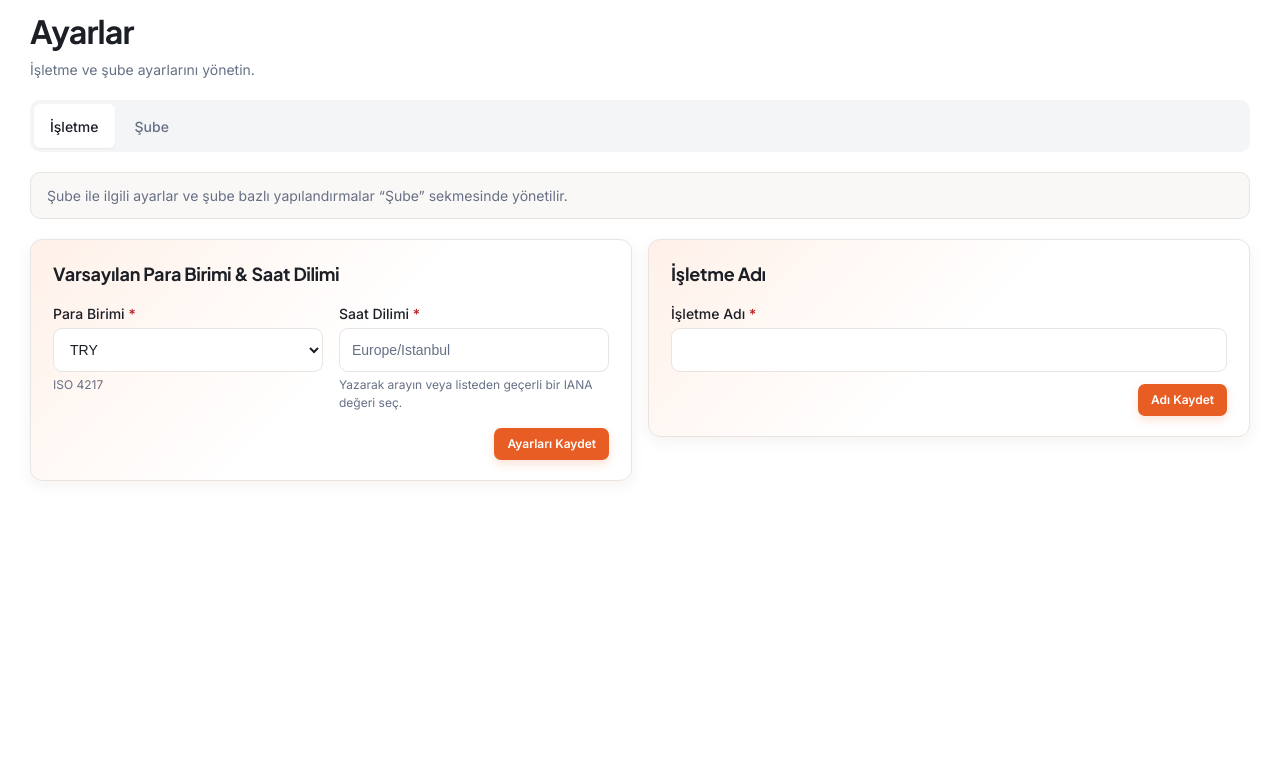
Scenario: SettingsPage - rol bazlı tab görünürlüğü › Şube tab'ına geçince Şube Ayarları içeriği görünür
Step 1. Click the tab "Şube" → (152, 126), box 118,104 -> 185,148
(page scrolled)
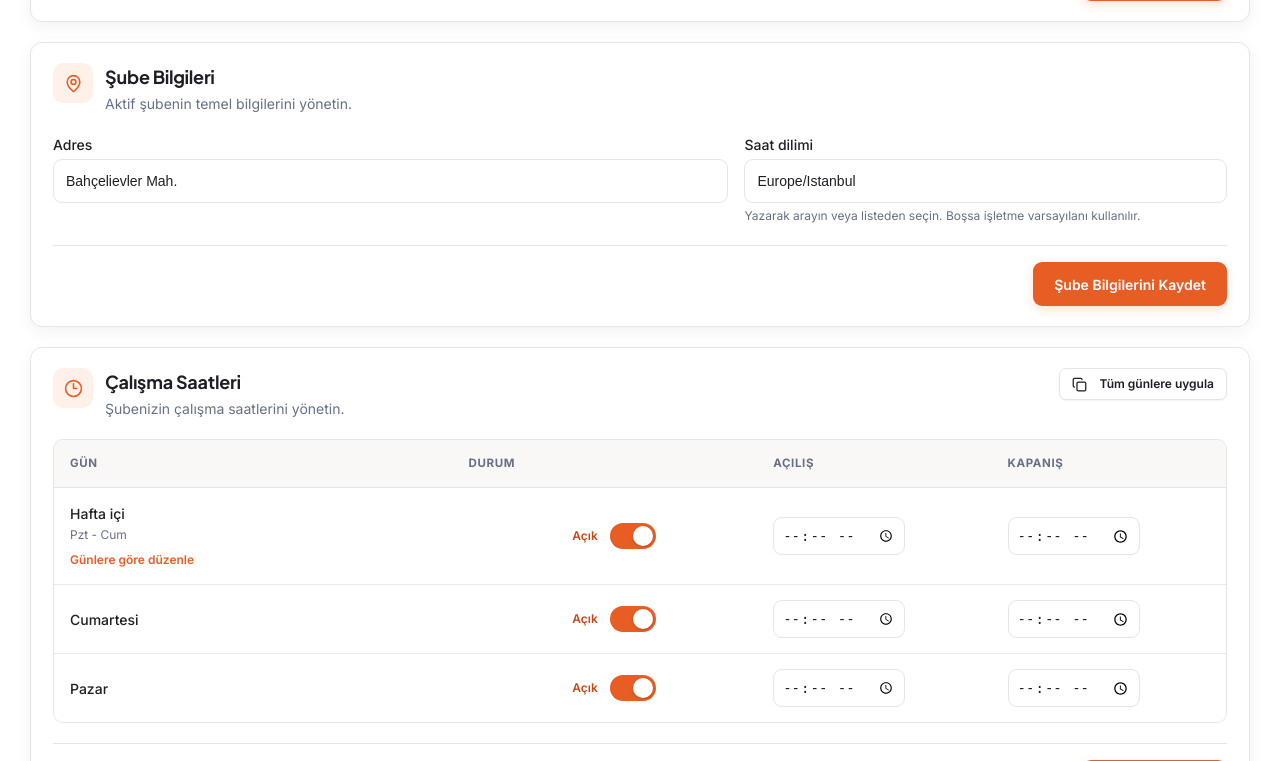
Expected: the heading "Çalışma Saatleri" is shown, 105,370 -> 241,393
